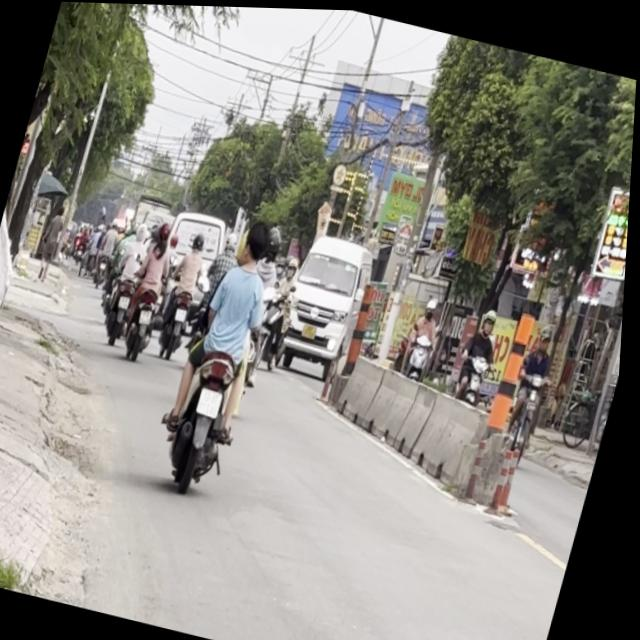licenseplate: (152, 205, 301, 500)
motorcyclist: (241, 215, 276, 265)
nohelmet: (199, 385, 229, 417)
